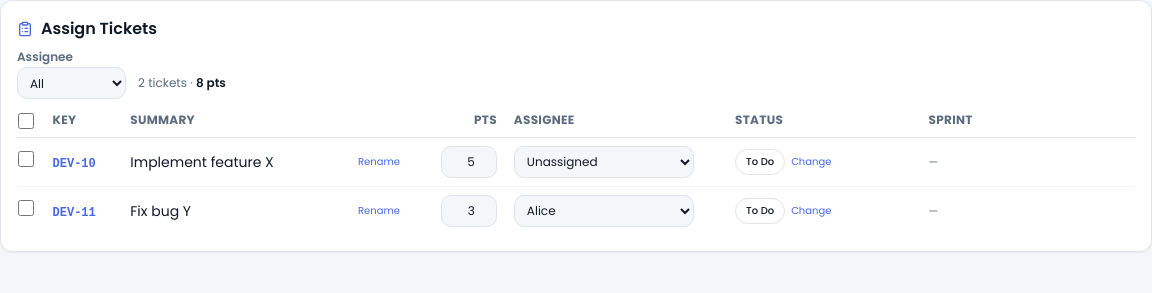
Test: AssignmentList — changing select calls assignIssue › reverts to previous assignee on error
The width and height of the screenshot is (1152, 293).
// Try to assign Alice
Select "Alice" in the dropdown named "Assignee for DEV-10" at x=604, y=162, box [514,146,694,178]
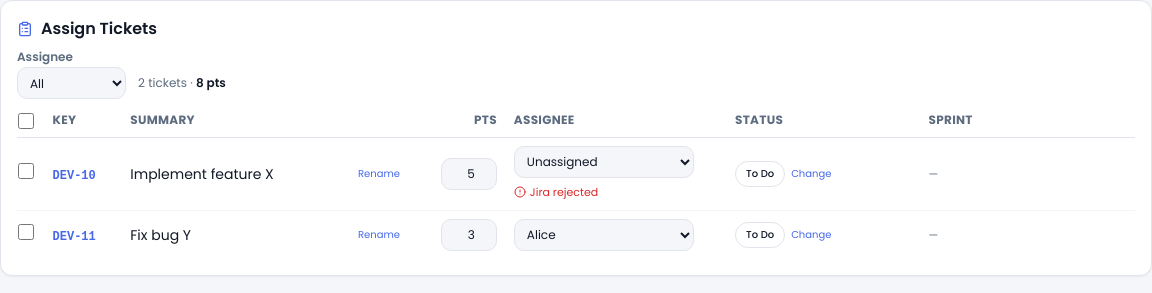
expect the text "Jira rejected" is shown: met, box [514,184,598,200]
